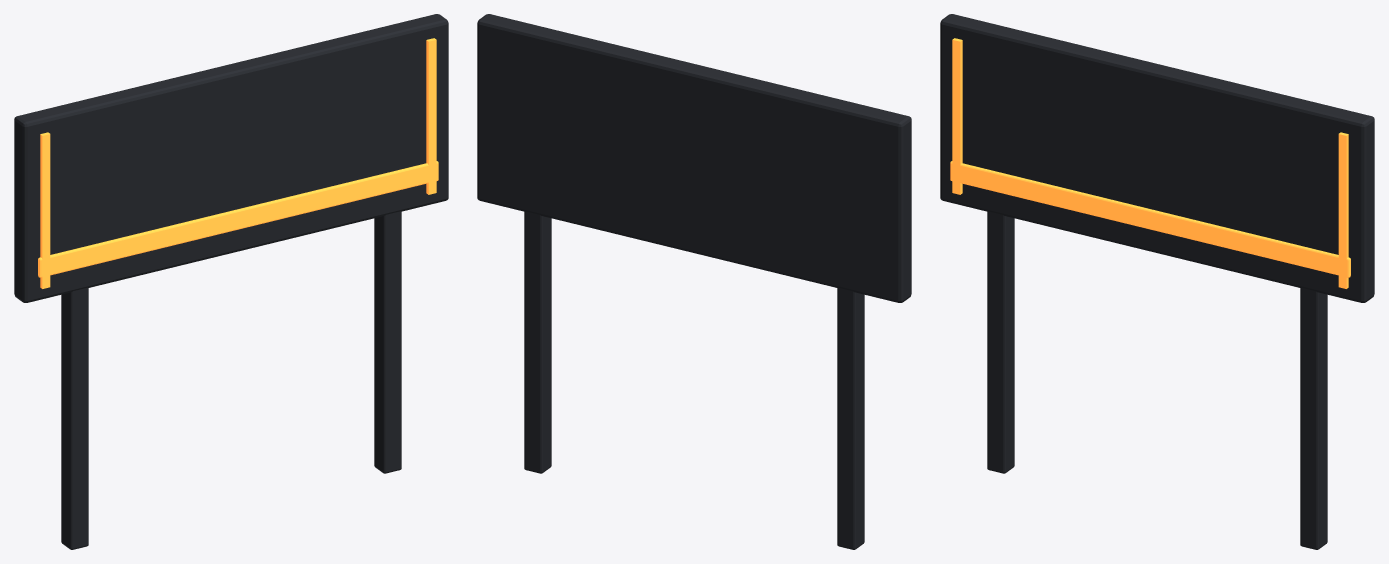
Rendered from billboard.glb.
The picture shows the model from 3 angles, left to right: view 1: azimuth 30°, elevation 25°; view 2: azimuth 150°, elevation 25°; view 3: azimuth 330°, elevation 25°; orthographic projection.
Parts seen in each view (by area): view 1: Billboard; view 2: Billboard; view 3: Billboard.
Boxes of the visible parts, bbox=[...] form: Billboard: bbox=[14, 14, 448, 549]; Billboard: bbox=[477, 14, 911, 549]; Billboard: bbox=[940, 14, 1374, 549].
Size of the model in its own units: 6.4 by 6.3 by 0.36.
